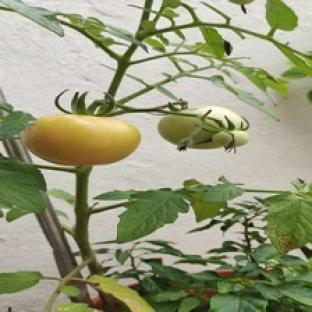Tomato: (21, 115, 140, 165), (158, 106, 249, 149)
